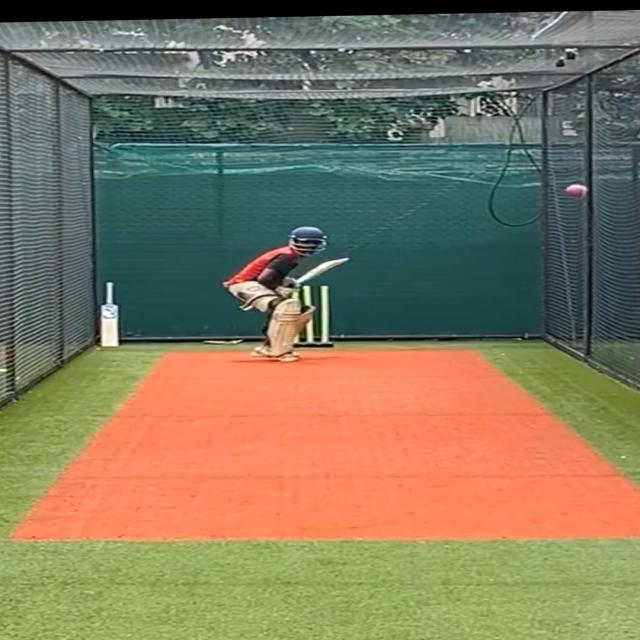ball: (564, 181, 590, 204)
stump: (288, 282, 334, 349)
